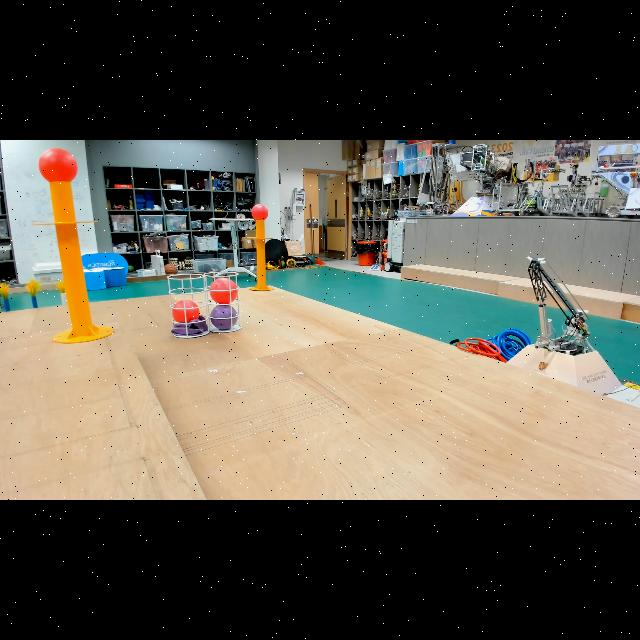P: (208, 303, 240, 333)
R: (36, 146, 80, 184), (206, 276, 240, 304), (170, 297, 200, 327), (250, 203, 270, 223)
S: (167, 274, 210, 338), (204, 271, 242, 333)
